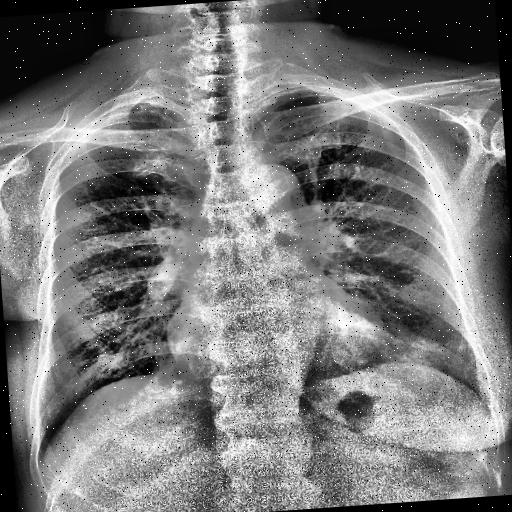0- Aortic enlargement: (238, 157, 314, 241), (238, 162, 312, 230), (242, 160, 302, 214)
11- Pleural thickening: (252, 82, 382, 126), (140, 99, 183, 128)
